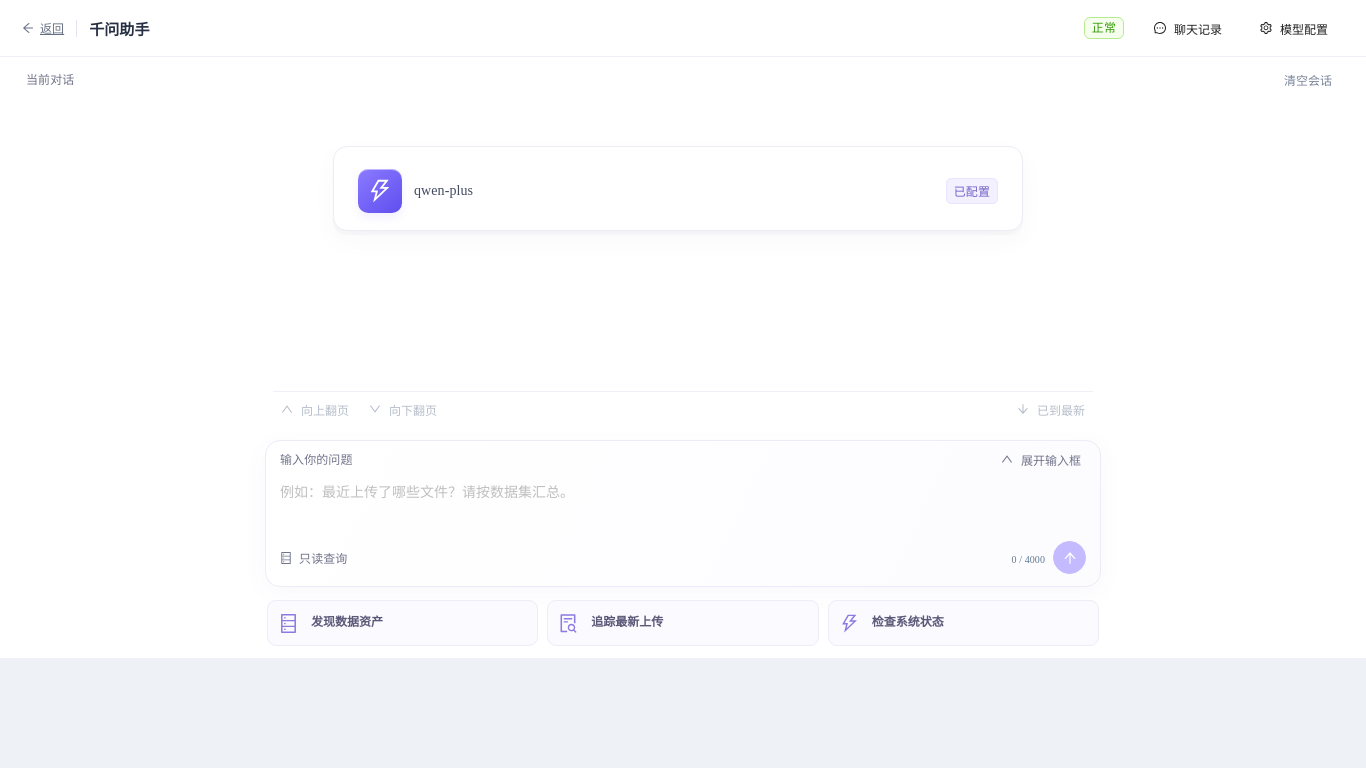
Test: Warehouse AI interface › shows actual answer sources and supports clearing a conversation
Later steps or results of the test are not shown.
In the text box named "输入问题": (683, 504) [280, 479, 1086, 529], type "高校数据有哪些？"
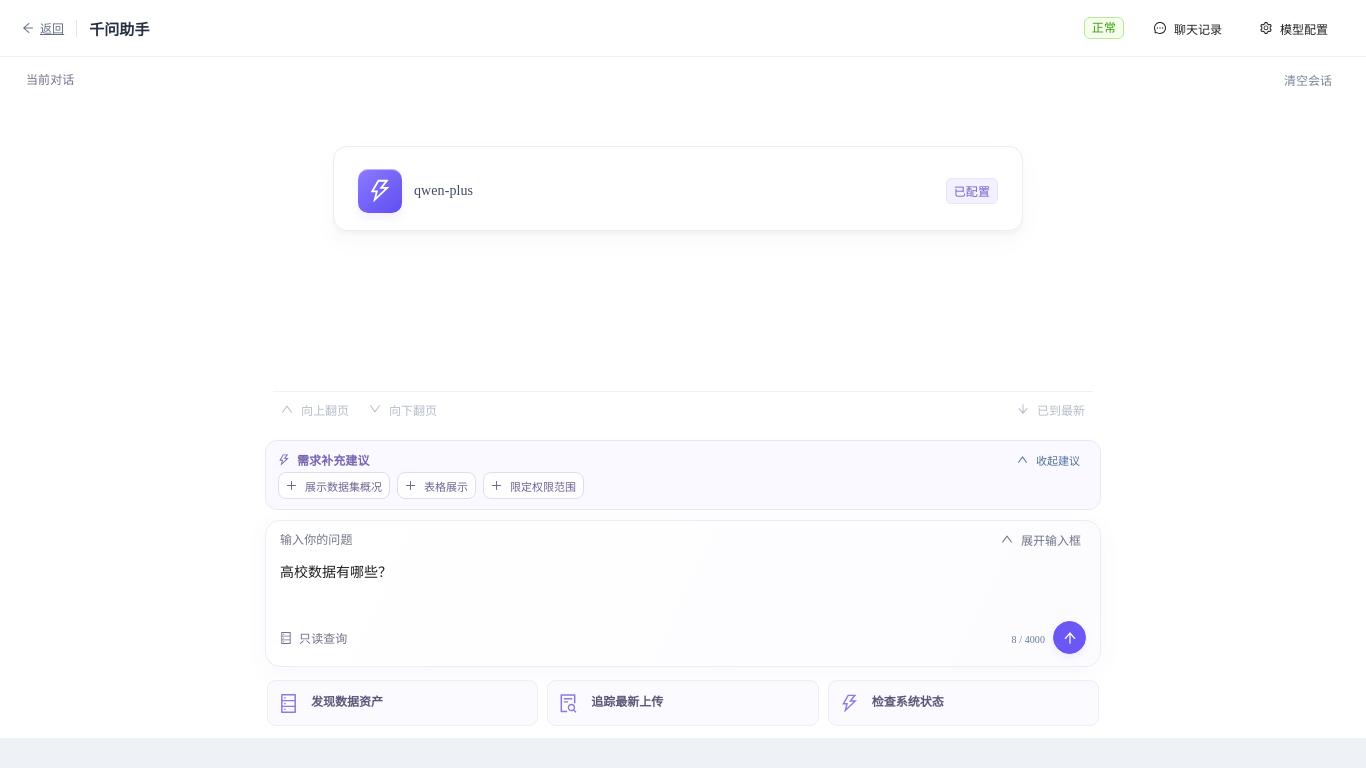
Click the button named "发送": (1070, 638) [1053, 621, 1086, 654]
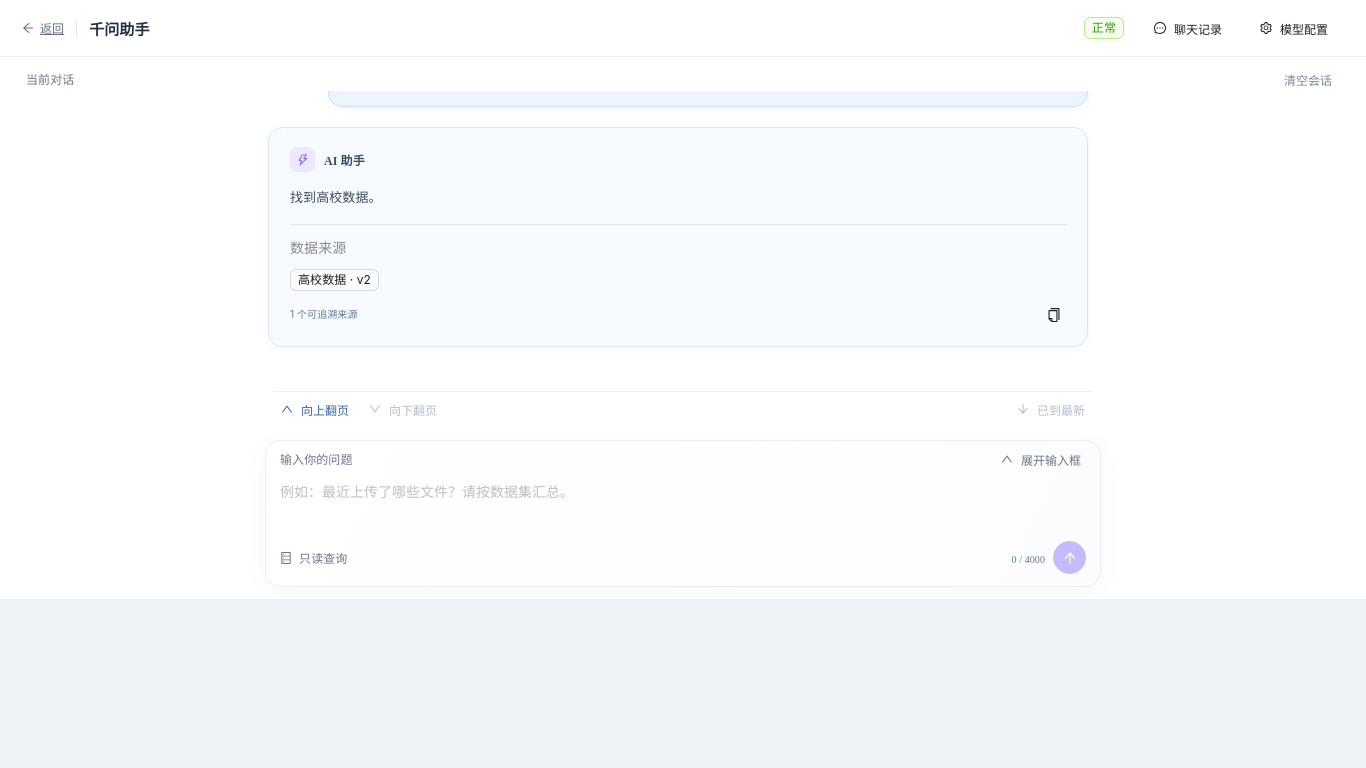
Expected: the button "清空会话" is enabled, [1276, 67, 1340, 91]
Now the text "找到高校数据。" is shown, box [290, 190, 382, 205]
